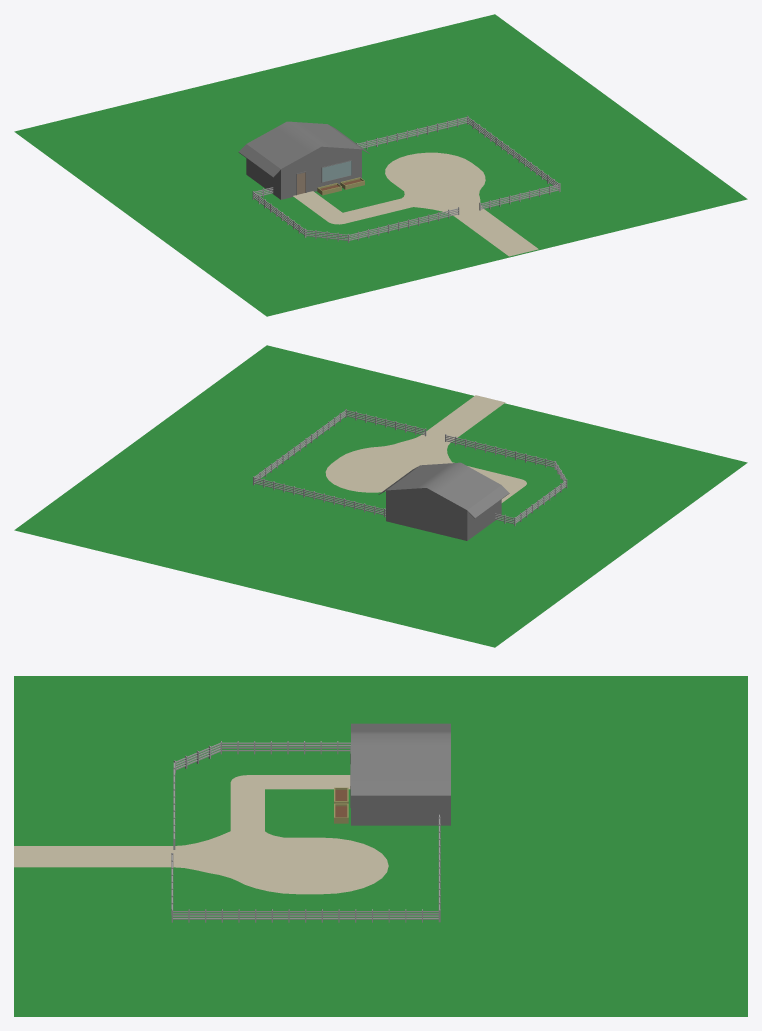
File: PlayerHouse.fbx
3 views of the same model, one above another, from view 1: azimuth 30°, elevation 25°; view 2: azimuth 150°, elevation 25°; view 3: azimuth 270°, elevation 25° (orthographic). The views are drawn at different scales.
Parts seen in each view (by area): view 1: pPlane6, polySurface81, pCube1, polySurface75, polySurface74; view 2: pPlane6, pCube1, polySurface81, polySurface75, polySurface74; view 3: pPlane6, polySurface81, pCube1, polySurface75, polySurface74.
Part boxes in pixels (<box>): pPlane6: <box>14,14,747,316</box>; polySurface81: <box>293,152,538,256</box>; pCube1: <box>238,121,369,199</box>; polySurface75: <box>356,115,560,210</box>; polySurface74: <box>252,187,459,242</box>; pPlane6: <box>14,345,747,647</box>; pCube1: <box>378,462,509,540</box>; polySurface81: <box>325,395,526,502</box>; polySurface75: <box>253,409,426,517</box>; polySurface74: <box>445,434,567,526</box>; pPlane6: <box>14,676,747,1016</box>; polySurface81: <box>14,775,388,894</box>; pCube1: <box>350,723,450,825</box>; polySurface75: <box>171,814,440,922</box>; polySurface74: <box>173,741,350,849</box>.
Size of the model in its own units: 1184 by 103 by 1078.
